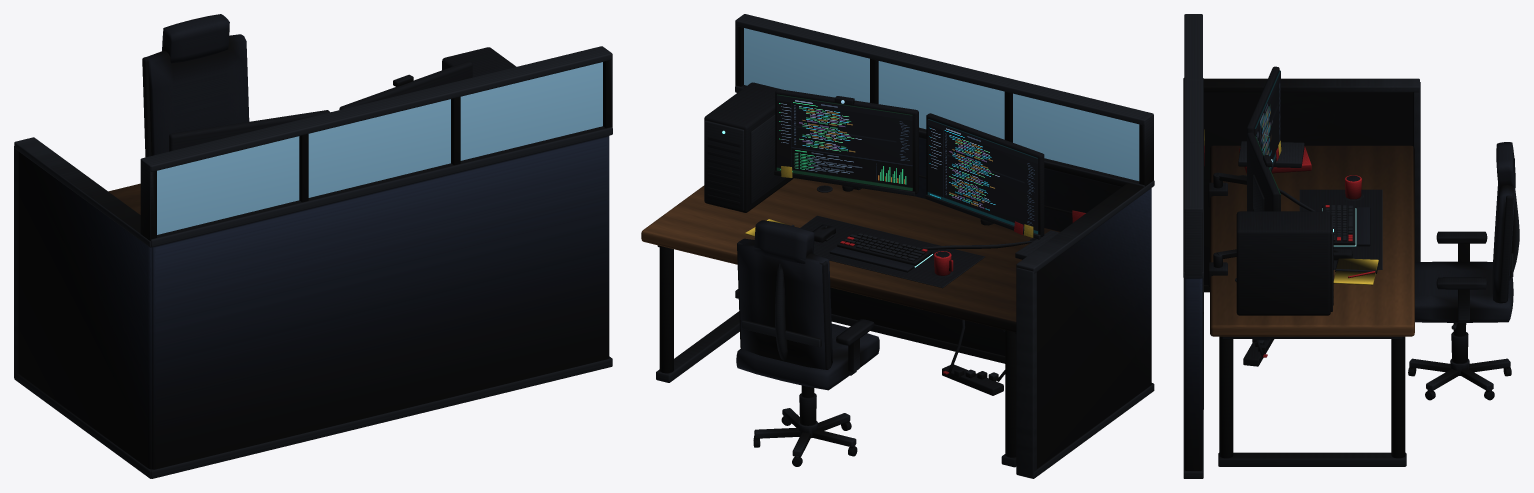
The model's file is prop_workstation_full.glb.
The picture shows the model from 3 angles, left to right: view 1: azimuth 30°, elevation 25°; view 2: azimuth 150°, elevation 25°; view 3: azimuth 270°, elevation 25°; orthographic projection. The views are drawn at different scales.
Parts seen in each view (by area): view 1: prop_workstation_full; view 2: prop_workstation_full; view 3: prop_workstation_full.
Boxes of the visible parts, x1,y1,x2,y2 form: prop_workstation_full: (14, 14, 612, 478); prop_workstation_full: (641, 14, 1154, 478); prop_workstation_full: (1183, 14, 1519, 478).
Bounding box in the file's own units: 2.26 × 1.46 × 1.64.
11 materials, 9 textured.
